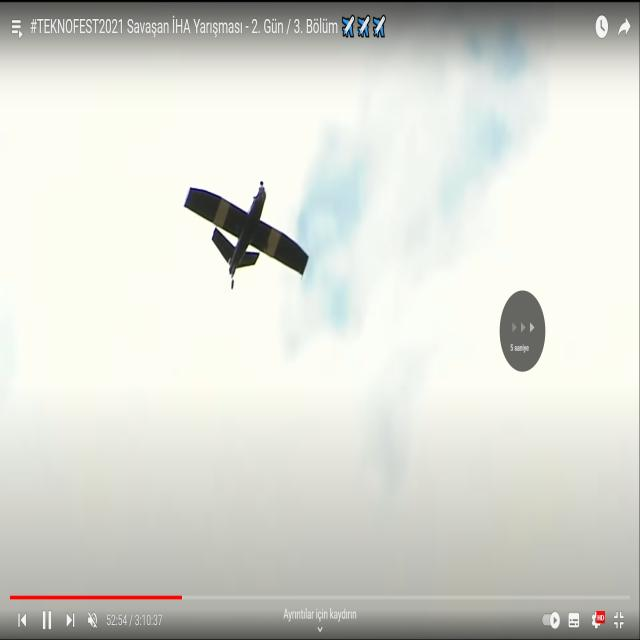iha: (216, 210, 276, 259)
